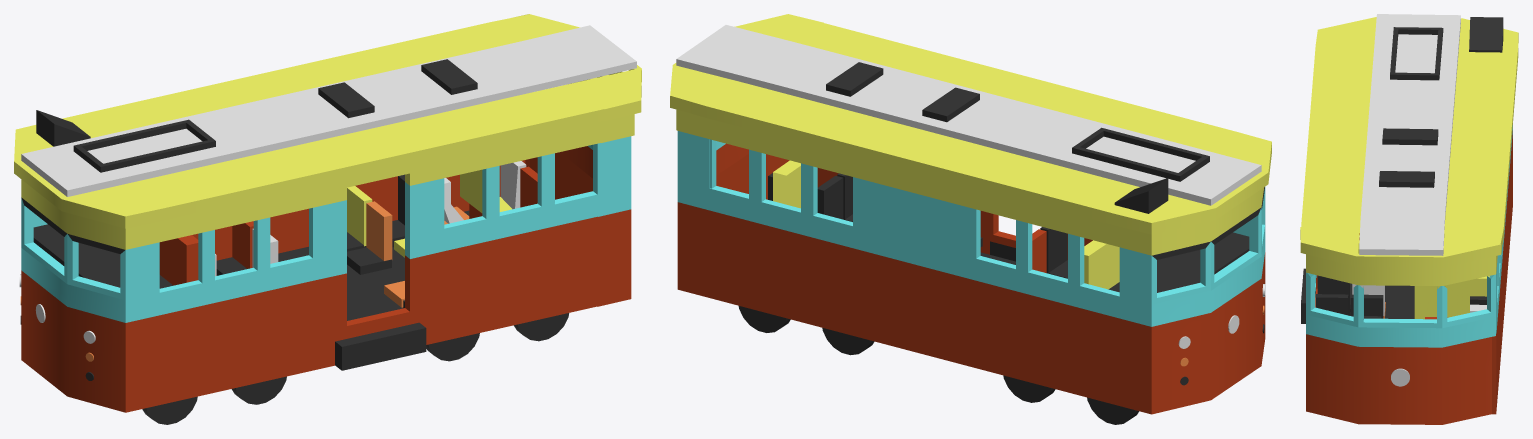
The model's file is train2 (3).fbx.
3 renders of one model, left to right at view 1: azimuth 30°, elevation 25°; view 2: azimuth 150°, elevation 25°; view 3: azimuth 270°, elevation 25°, orthographic. The views are drawn at different scales.
Visible parts, largest first — view 1: Train.001, Train.003, Train, Train.004, Train.002, Train.007, Train.011, Train.010; view 2: Train.001, Train.003, Train.004, Train, Train.002, Train.011, Train.007; view 3: Train.003, Train, Train.007, Train.011, Train.002, Train.010, Train.001, Train.004, Cylinder.
Part boxes in pixels (bbox=[...]): Train.001: bbox=[21, 152, 597, 412]; Train.003: bbox=[14, 14, 637, 361]; Train: bbox=[19, 25, 636, 343]; Train.004: bbox=[21, 143, 600, 322]; Train.002: bbox=[20, 59, 569, 424]; Train.007: bbox=[499, 146, 631, 306]; Train.011: bbox=[460, 14, 641, 212]; Train.010: bbox=[555, 136, 631, 216]; Train.001: bbox=[677, 154, 1265, 414]; Train.003: bbox=[671, 15, 1271, 366]; Train.004: bbox=[677, 131, 1265, 326]; Train: bbox=[676, 25, 1265, 348]; Train.002: bbox=[738, 62, 1264, 424]; Train.011: bbox=[670, 14, 823, 208]; Train.007: bbox=[716, 143, 748, 175]; Train.003: bbox=[1301, 17, 1518, 318]; Train: bbox=[1352, 14, 1486, 316]; Train.007: bbox=[1306, 333, 1496, 424]; Train.011: bbox=[1300, 227, 1502, 319]; Train.002: bbox=[1301, 17, 1503, 323]; Train.010: bbox=[1306, 272, 1496, 347]; Train.001: bbox=[1315, 130, 1512, 414]; Train.004: bbox=[1315, 125, 1512, 333]; Cylinder: bbox=[1391, 368, 1409, 386].
Size of the model in its own units: 1817 by 787 by 697.
